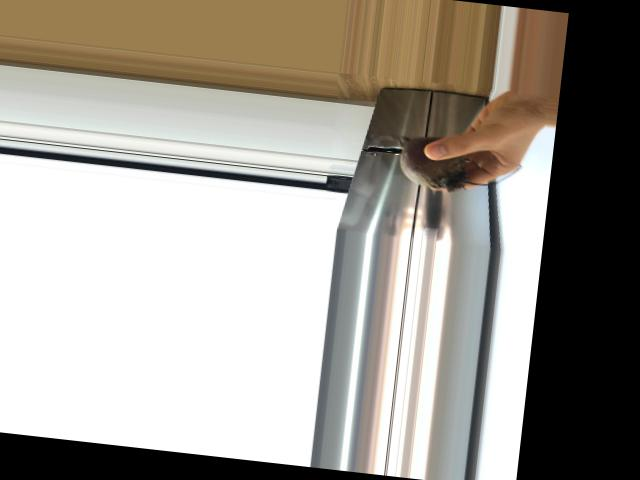beet: (385, 132, 523, 199)
